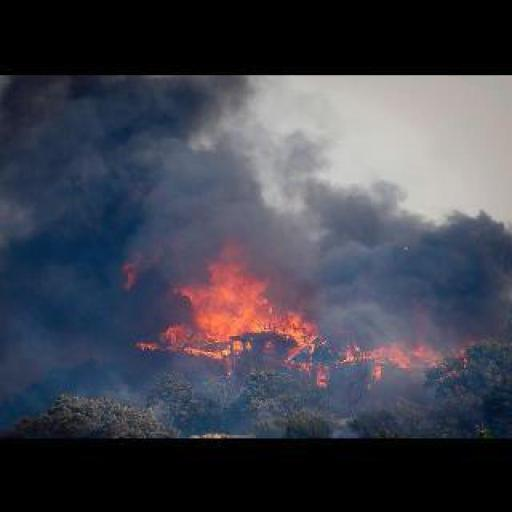smoke: (309, 132, 510, 338), (112, 232, 325, 363), (340, 331, 458, 370)
